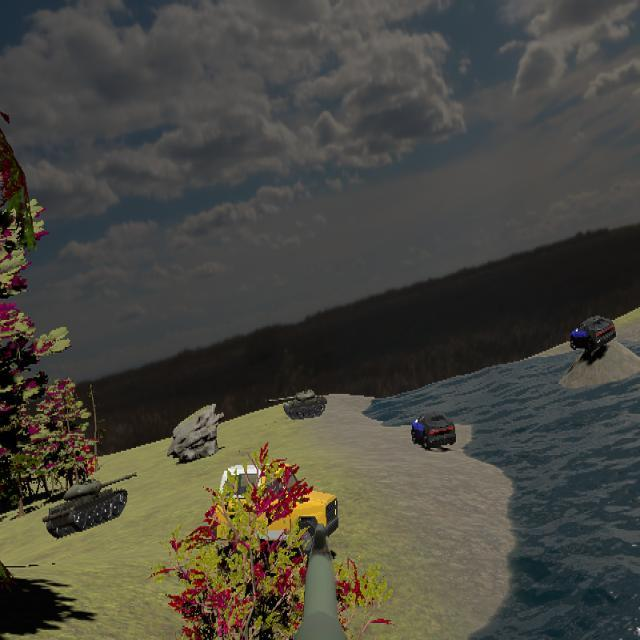Tank: (42, 472, 138, 540), (267, 387, 328, 421)
car: (411, 410, 456, 451), (570, 315, 616, 354)
